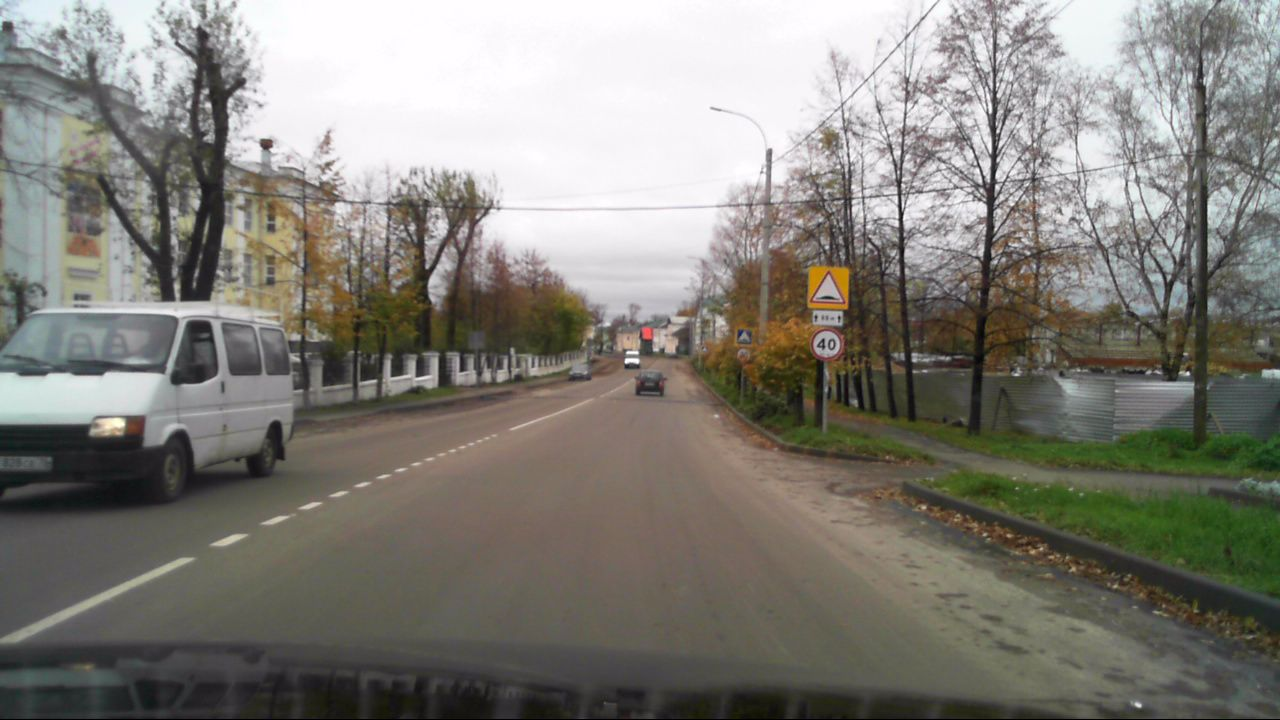speed_warning_40: (809, 329, 844, 360)
